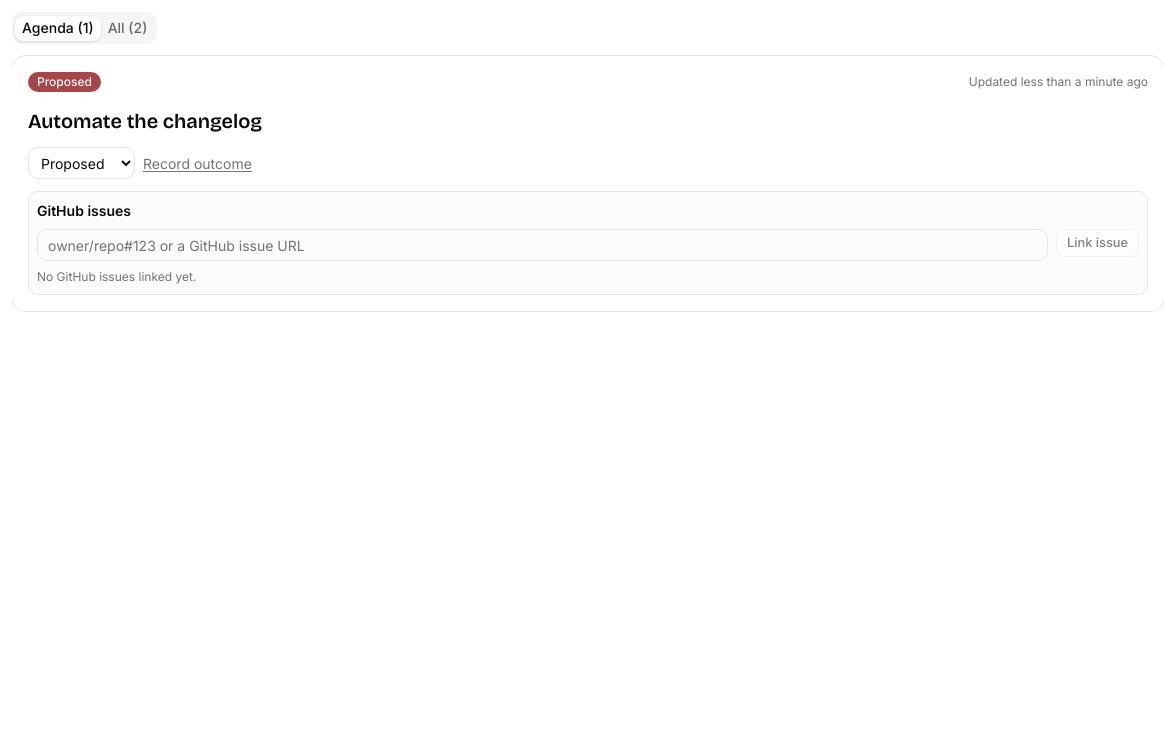
Test: AgendaTabs › switches to the All tab and shows resolved items too
This screenshot has width=1164, height=732.
Check: the text "Already shipped" is not shown
Click the tab "All (2)": (127, 28) [101,16,154,40]
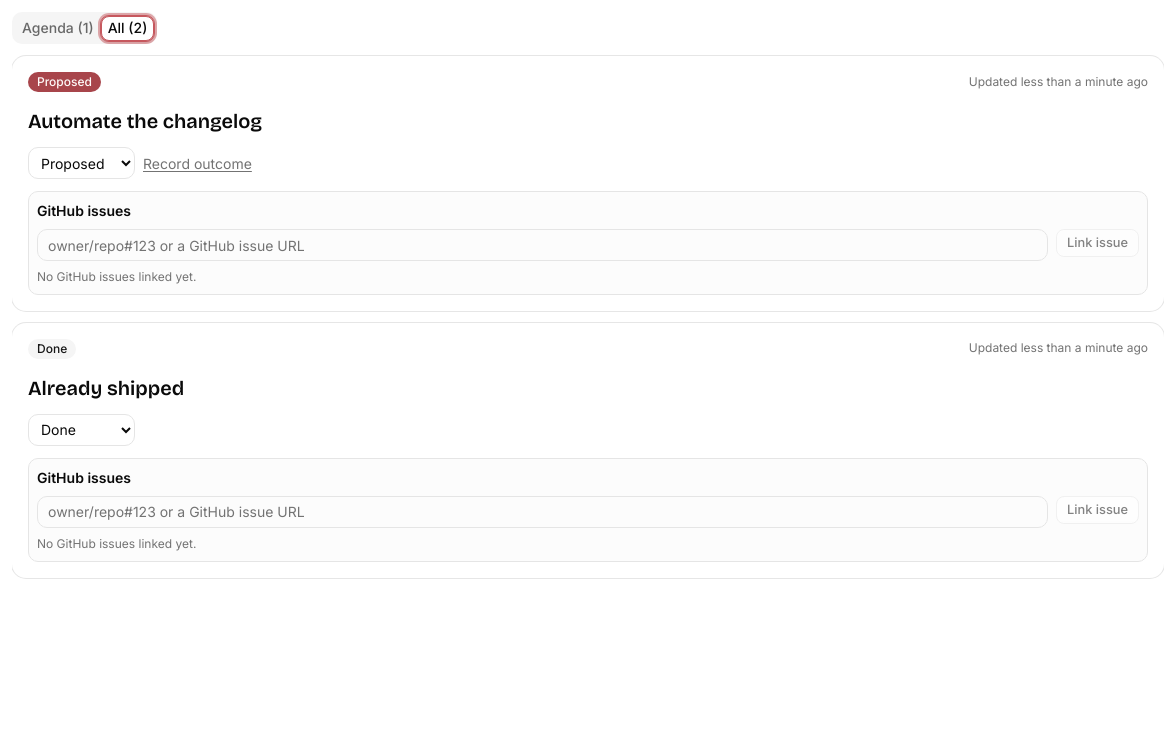
Check: the heading "Already shipped" is shown, box [28,376,184,400]
